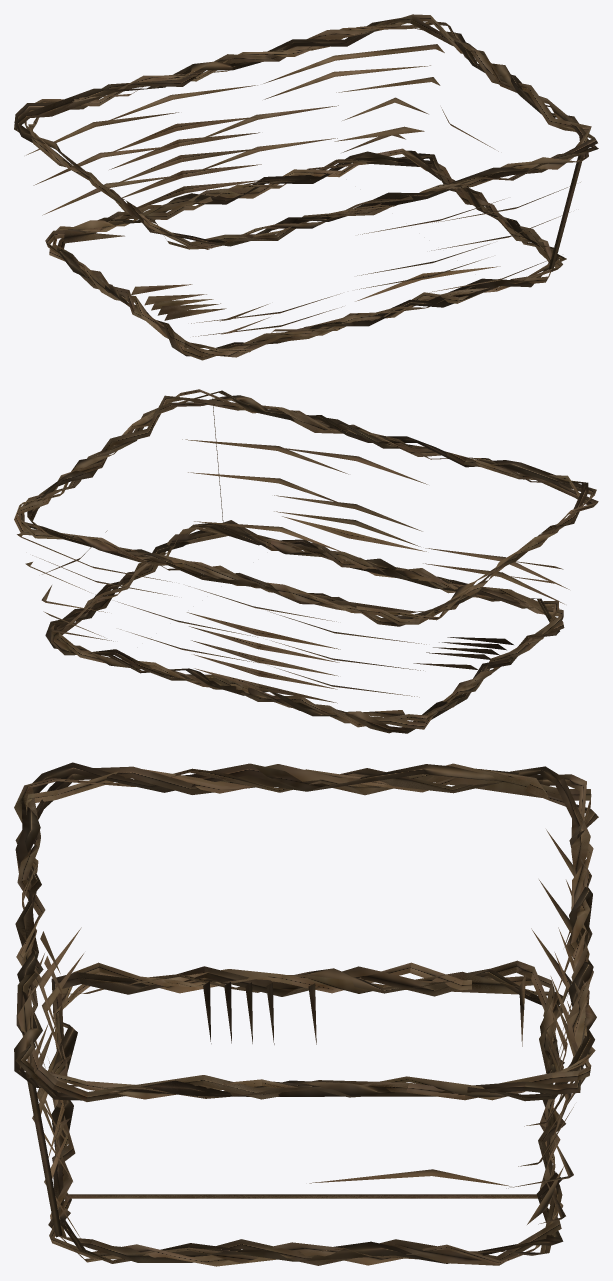
File: wicker_basket_01.gltf
The picture shows the model from 3 angles, top to bottom: view 1: azimuth 30°, elevation 25°; view 2: azimuth 150°, elevation 25°; view 3: azimuth 270°, elevation 25°; orthographic projection. The views are drawn at different scales.
Visible parts, largest first — view 1: wicker_basket_01; view 2: wicker_basket_01; view 3: wicker_basket_01.
Part boxes in pixels (x1=…): wicker_basket_01: x1=14, y1=14, x2=598, y2=360; wicker_basket_01: x1=14, y1=389, x2=598, y2=733; wicker_basket_01: x1=14, y1=762, x2=598, y2=1266.
Size of the model in its own units: 0.383 by 0.1172 by 0.2928.
1 material, 1 textured.
